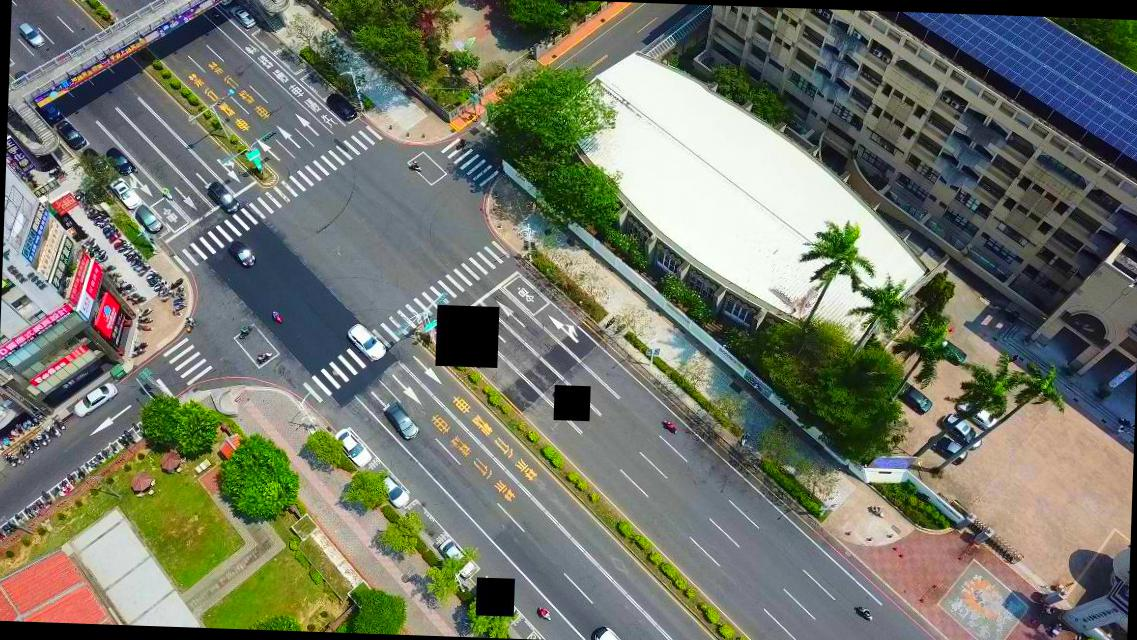vehicle: (344, 322, 386, 362), (72, 382, 116, 419), (938, 414, 983, 448), (332, 428, 372, 465), (893, 379, 933, 412), (954, 398, 996, 428), (381, 402, 418, 436), (324, 88, 358, 122), (206, 180, 238, 216), (441, 538, 473, 573), (380, 472, 410, 506), (930, 435, 966, 461), (108, 179, 140, 208), (934, 336, 965, 365), (56, 117, 85, 147), (105, 144, 134, 174), (224, 239, 253, 267), (132, 206, 161, 232), (80, 147, 107, 174), (16, 20, 44, 46), (228, 3, 254, 27)
